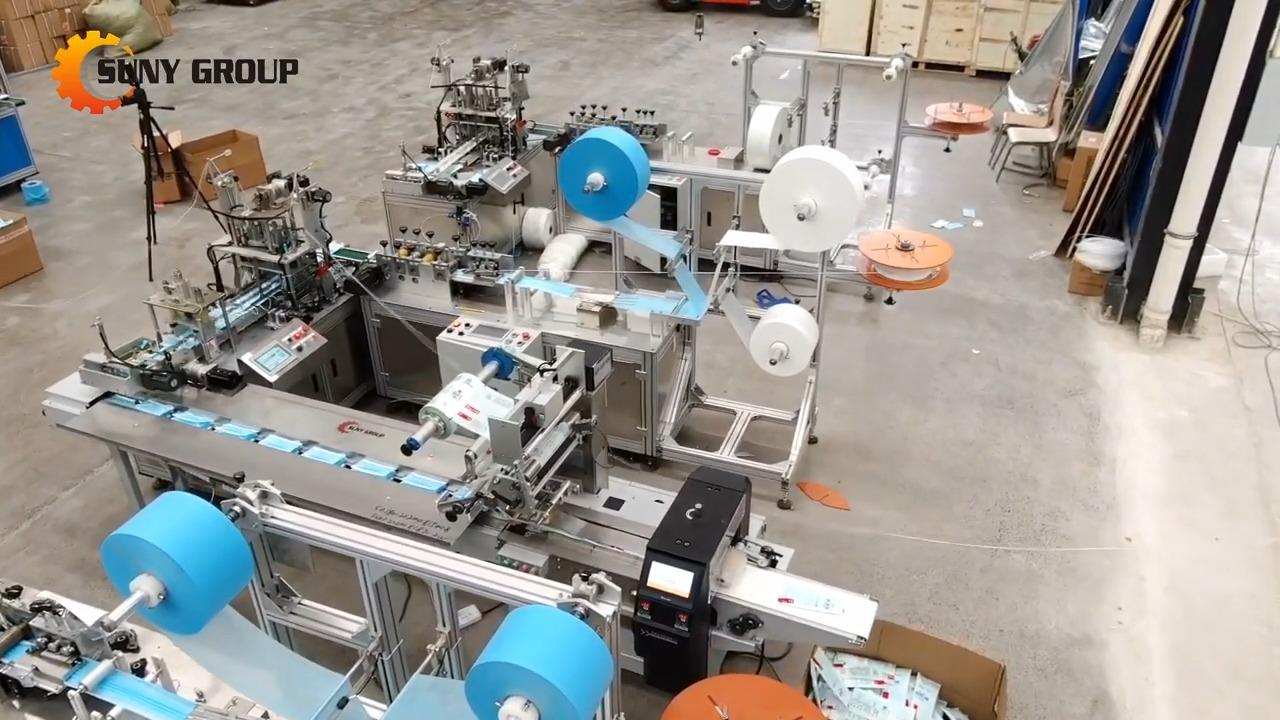mask: (170, 407, 215, 431), (351, 457, 397, 480), (400, 470, 448, 492), (257, 433, 304, 455), (301, 445, 348, 466), (134, 397, 176, 418), (216, 424, 259, 441)
